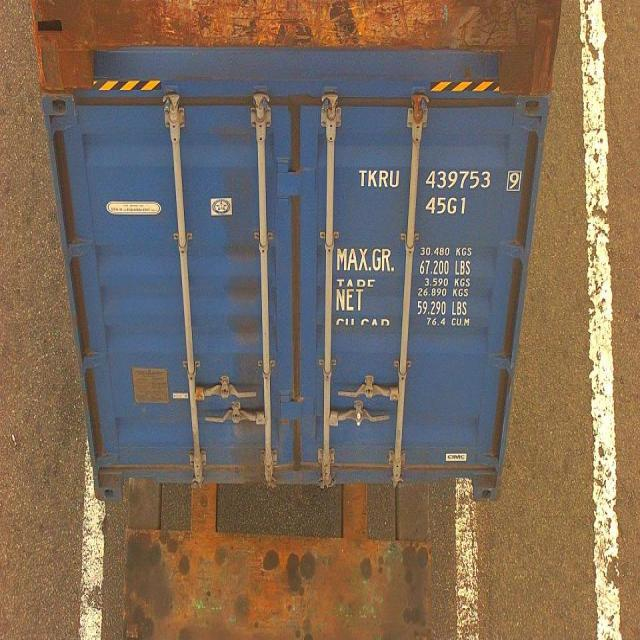ISO: (426, 193, 468, 216)
container_number: (362, 168, 521, 192)
